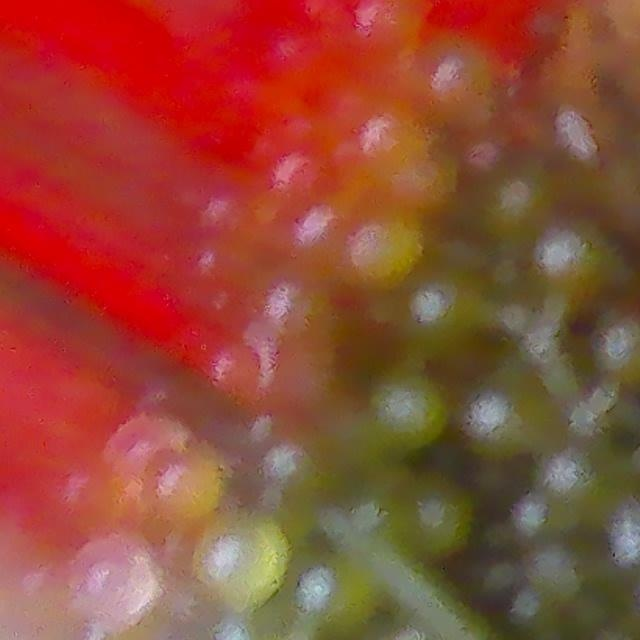SeaGrape: (189, 519, 285, 615), (67, 534, 162, 626), (369, 369, 453, 454), (346, 213, 430, 294)
